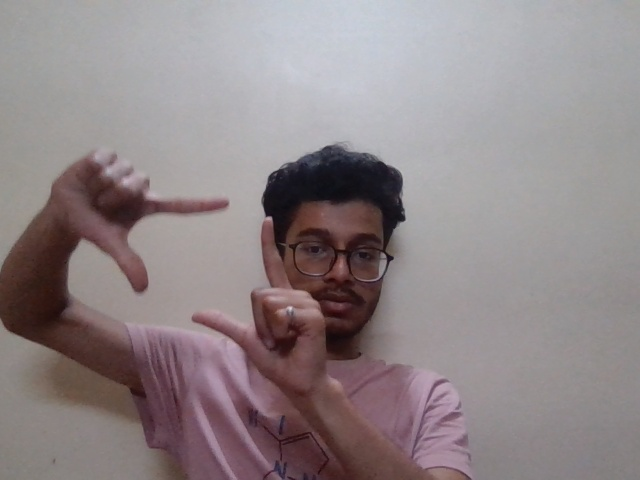video: (29, 149, 329, 394)
